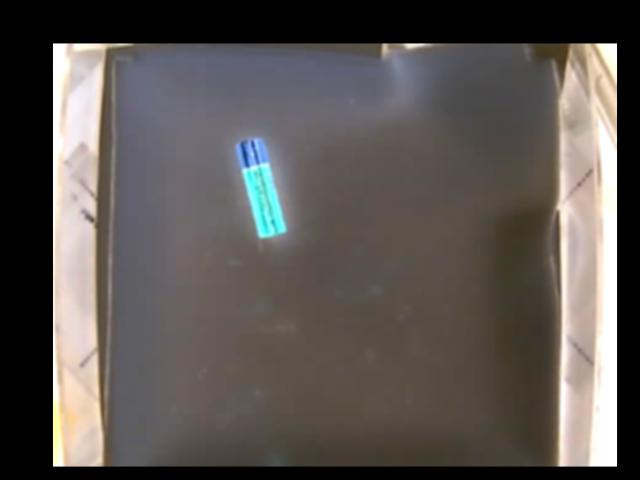Battery: (235, 136, 287, 238)
